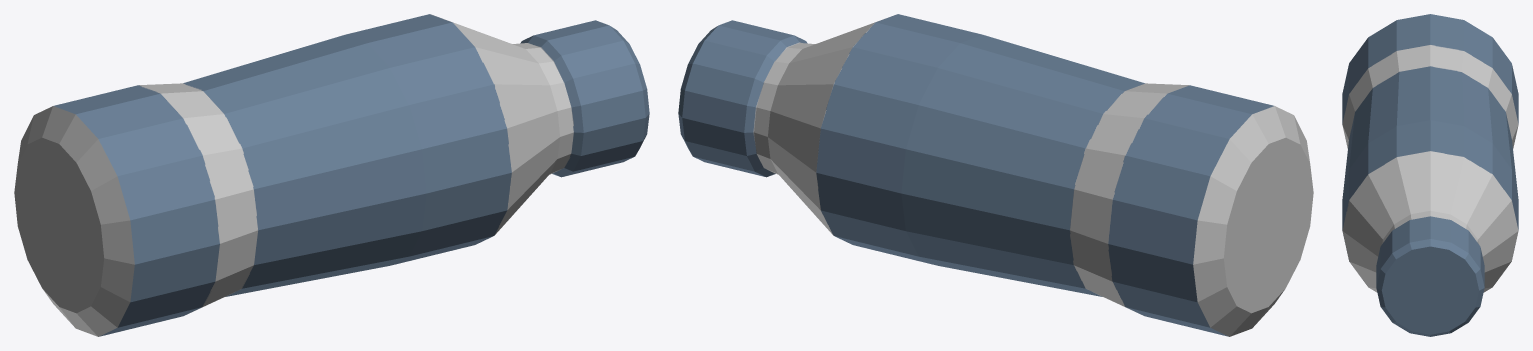
File: bottled_water.dae
3 views of the same model, side by side, from view 1: azimuth 30°, elevation 25°; view 2: azimuth 150°, elevation 25°; view 3: azimuth 270°, elevation 25° (orthographic). The views are drawn at different scales.
Parts seen in each view (by area): view 1: mesh; view 2: mesh; view 3: mesh.
Boxes of the visible parts, bbox=[...] form: mesh: bbox=[14, 14, 649, 336]; mesh: bbox=[678, 14, 1313, 336]; mesh: bbox=[1342, 14, 1518, 336].
Size of what is drawn, in the model's own units: 0.4443 by 0.1631 by 0.1631.
Materials: 1 (1 with a texture image).
